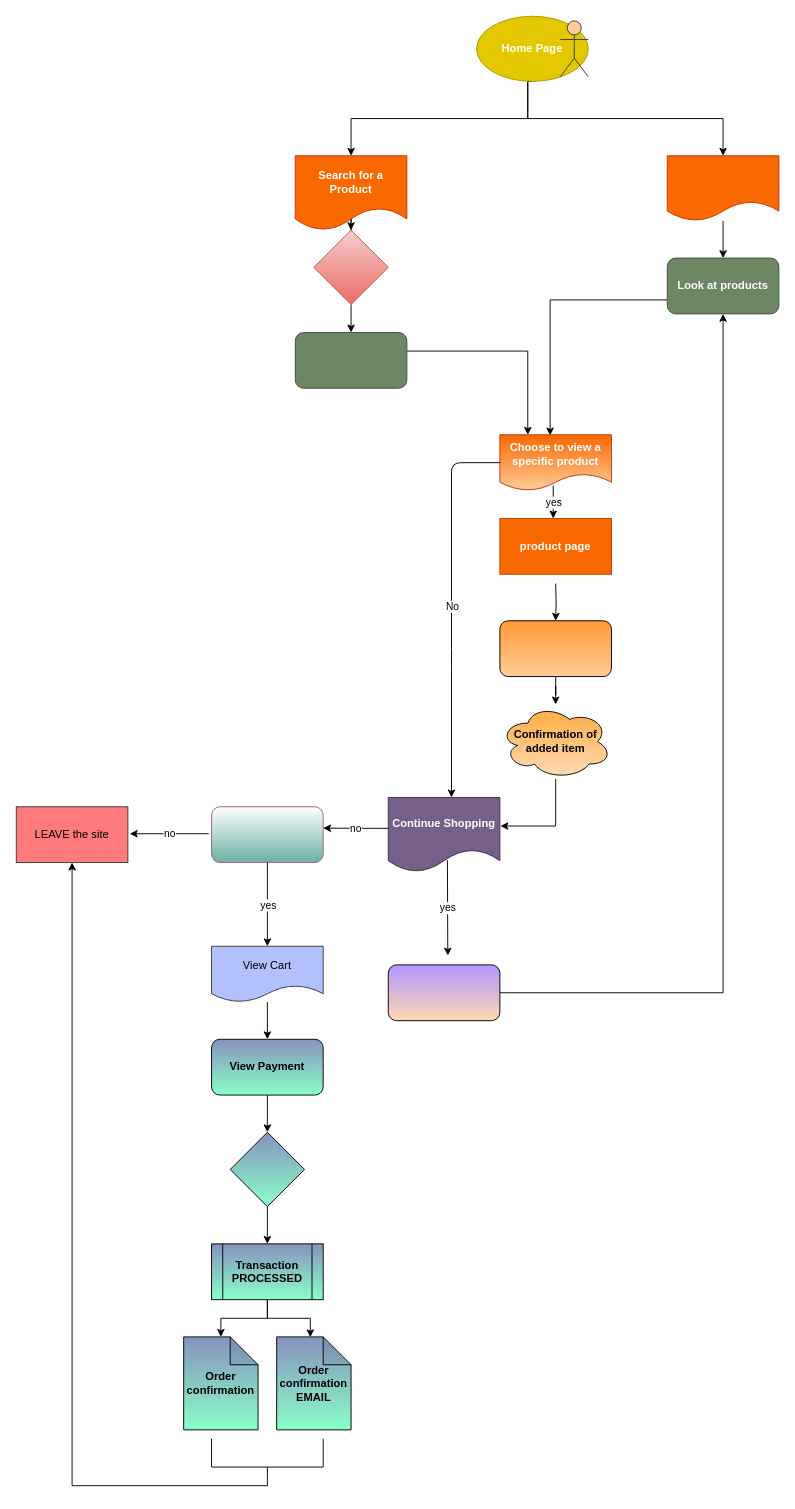
The diagram is 795 pixels wide and 1509 high, and some of its shapes have lost their labels. Here are the shapes that lost their labels. From the top down, the centre of each, then its label:
point 722,188: Explore the Products
point 350,267: Specific Product
point 350,360: Look at similar products
point 555,648: ADD to cart
point 267,834: Checkout
point 443,992: Search for another product
point 267,1169: payment info
